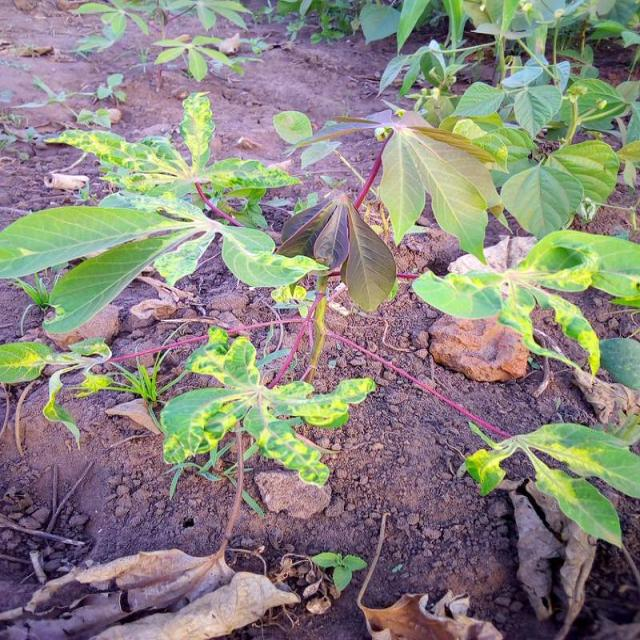cassava leaf: (158, 325, 376, 497), (460, 418, 638, 551), (377, 110, 505, 265), (275, 191, 397, 312)
